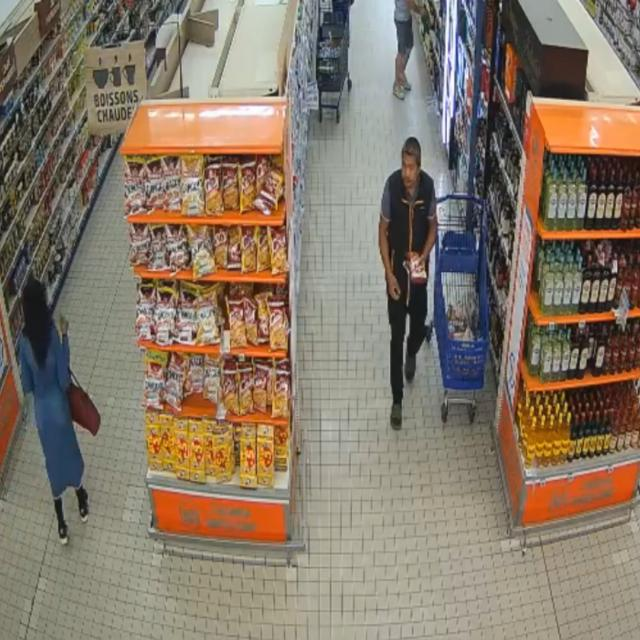article: (405, 252, 428, 284), (423, 4, 431, 32)
bags: (68, 372, 100, 435)
hands: (386, 272, 401, 300), (59, 315, 68, 335), (419, 253, 428, 268), (421, 5, 429, 18)
person: (20, 278, 88, 543), (379, 137, 437, 429), (393, 0, 425, 99)
